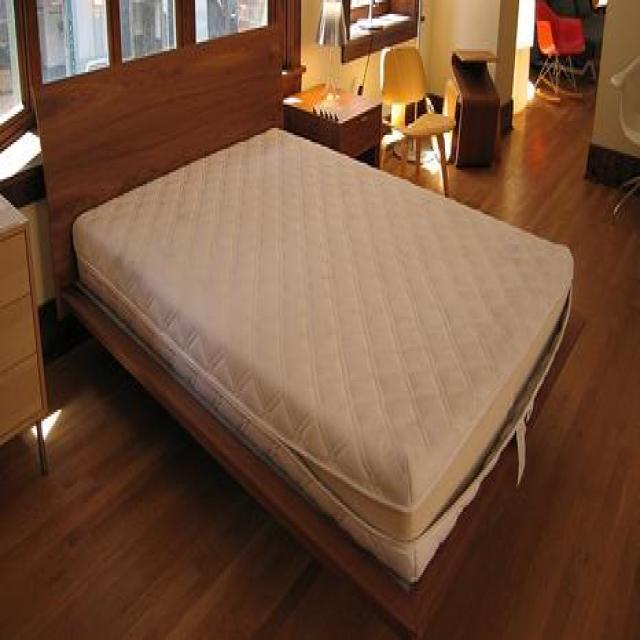bed: (33, 23, 574, 640)
